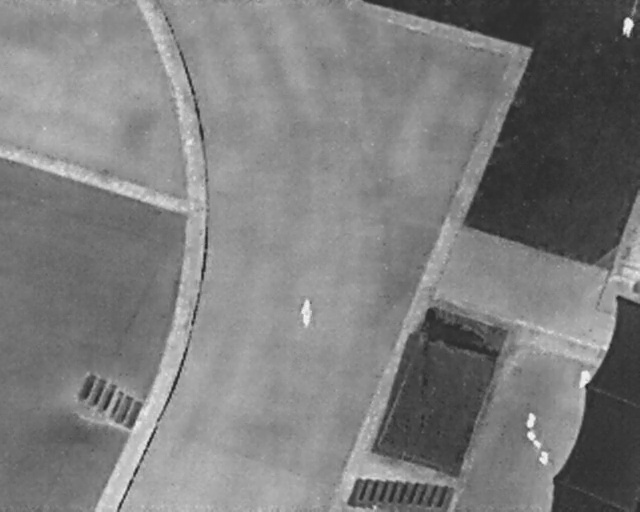Person: (575, 366, 594, 392), (300, 295, 312, 330), (622, 14, 634, 37)
